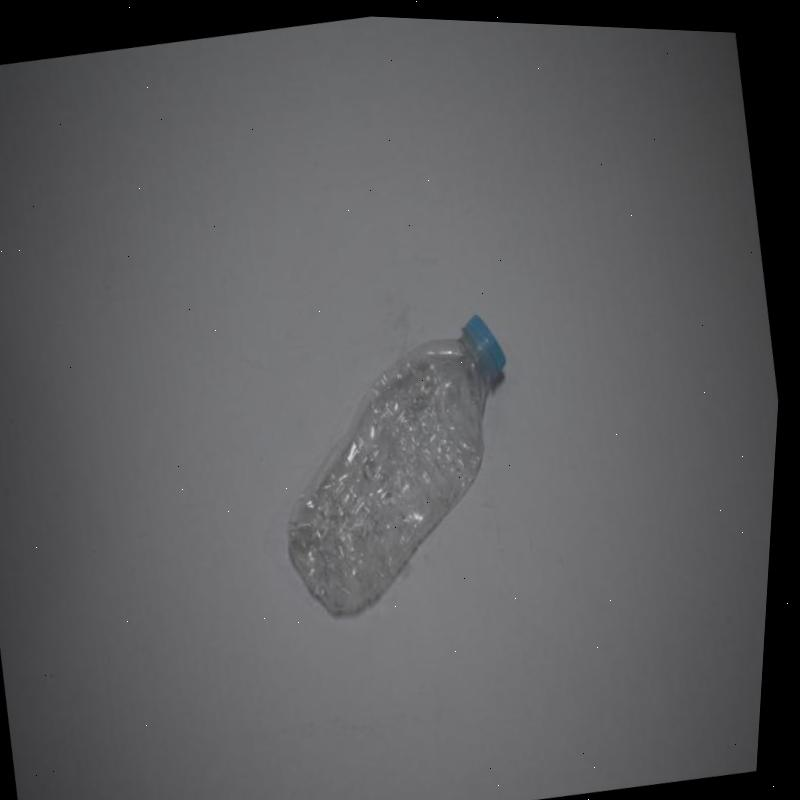botella: (253, 295, 554, 631)
